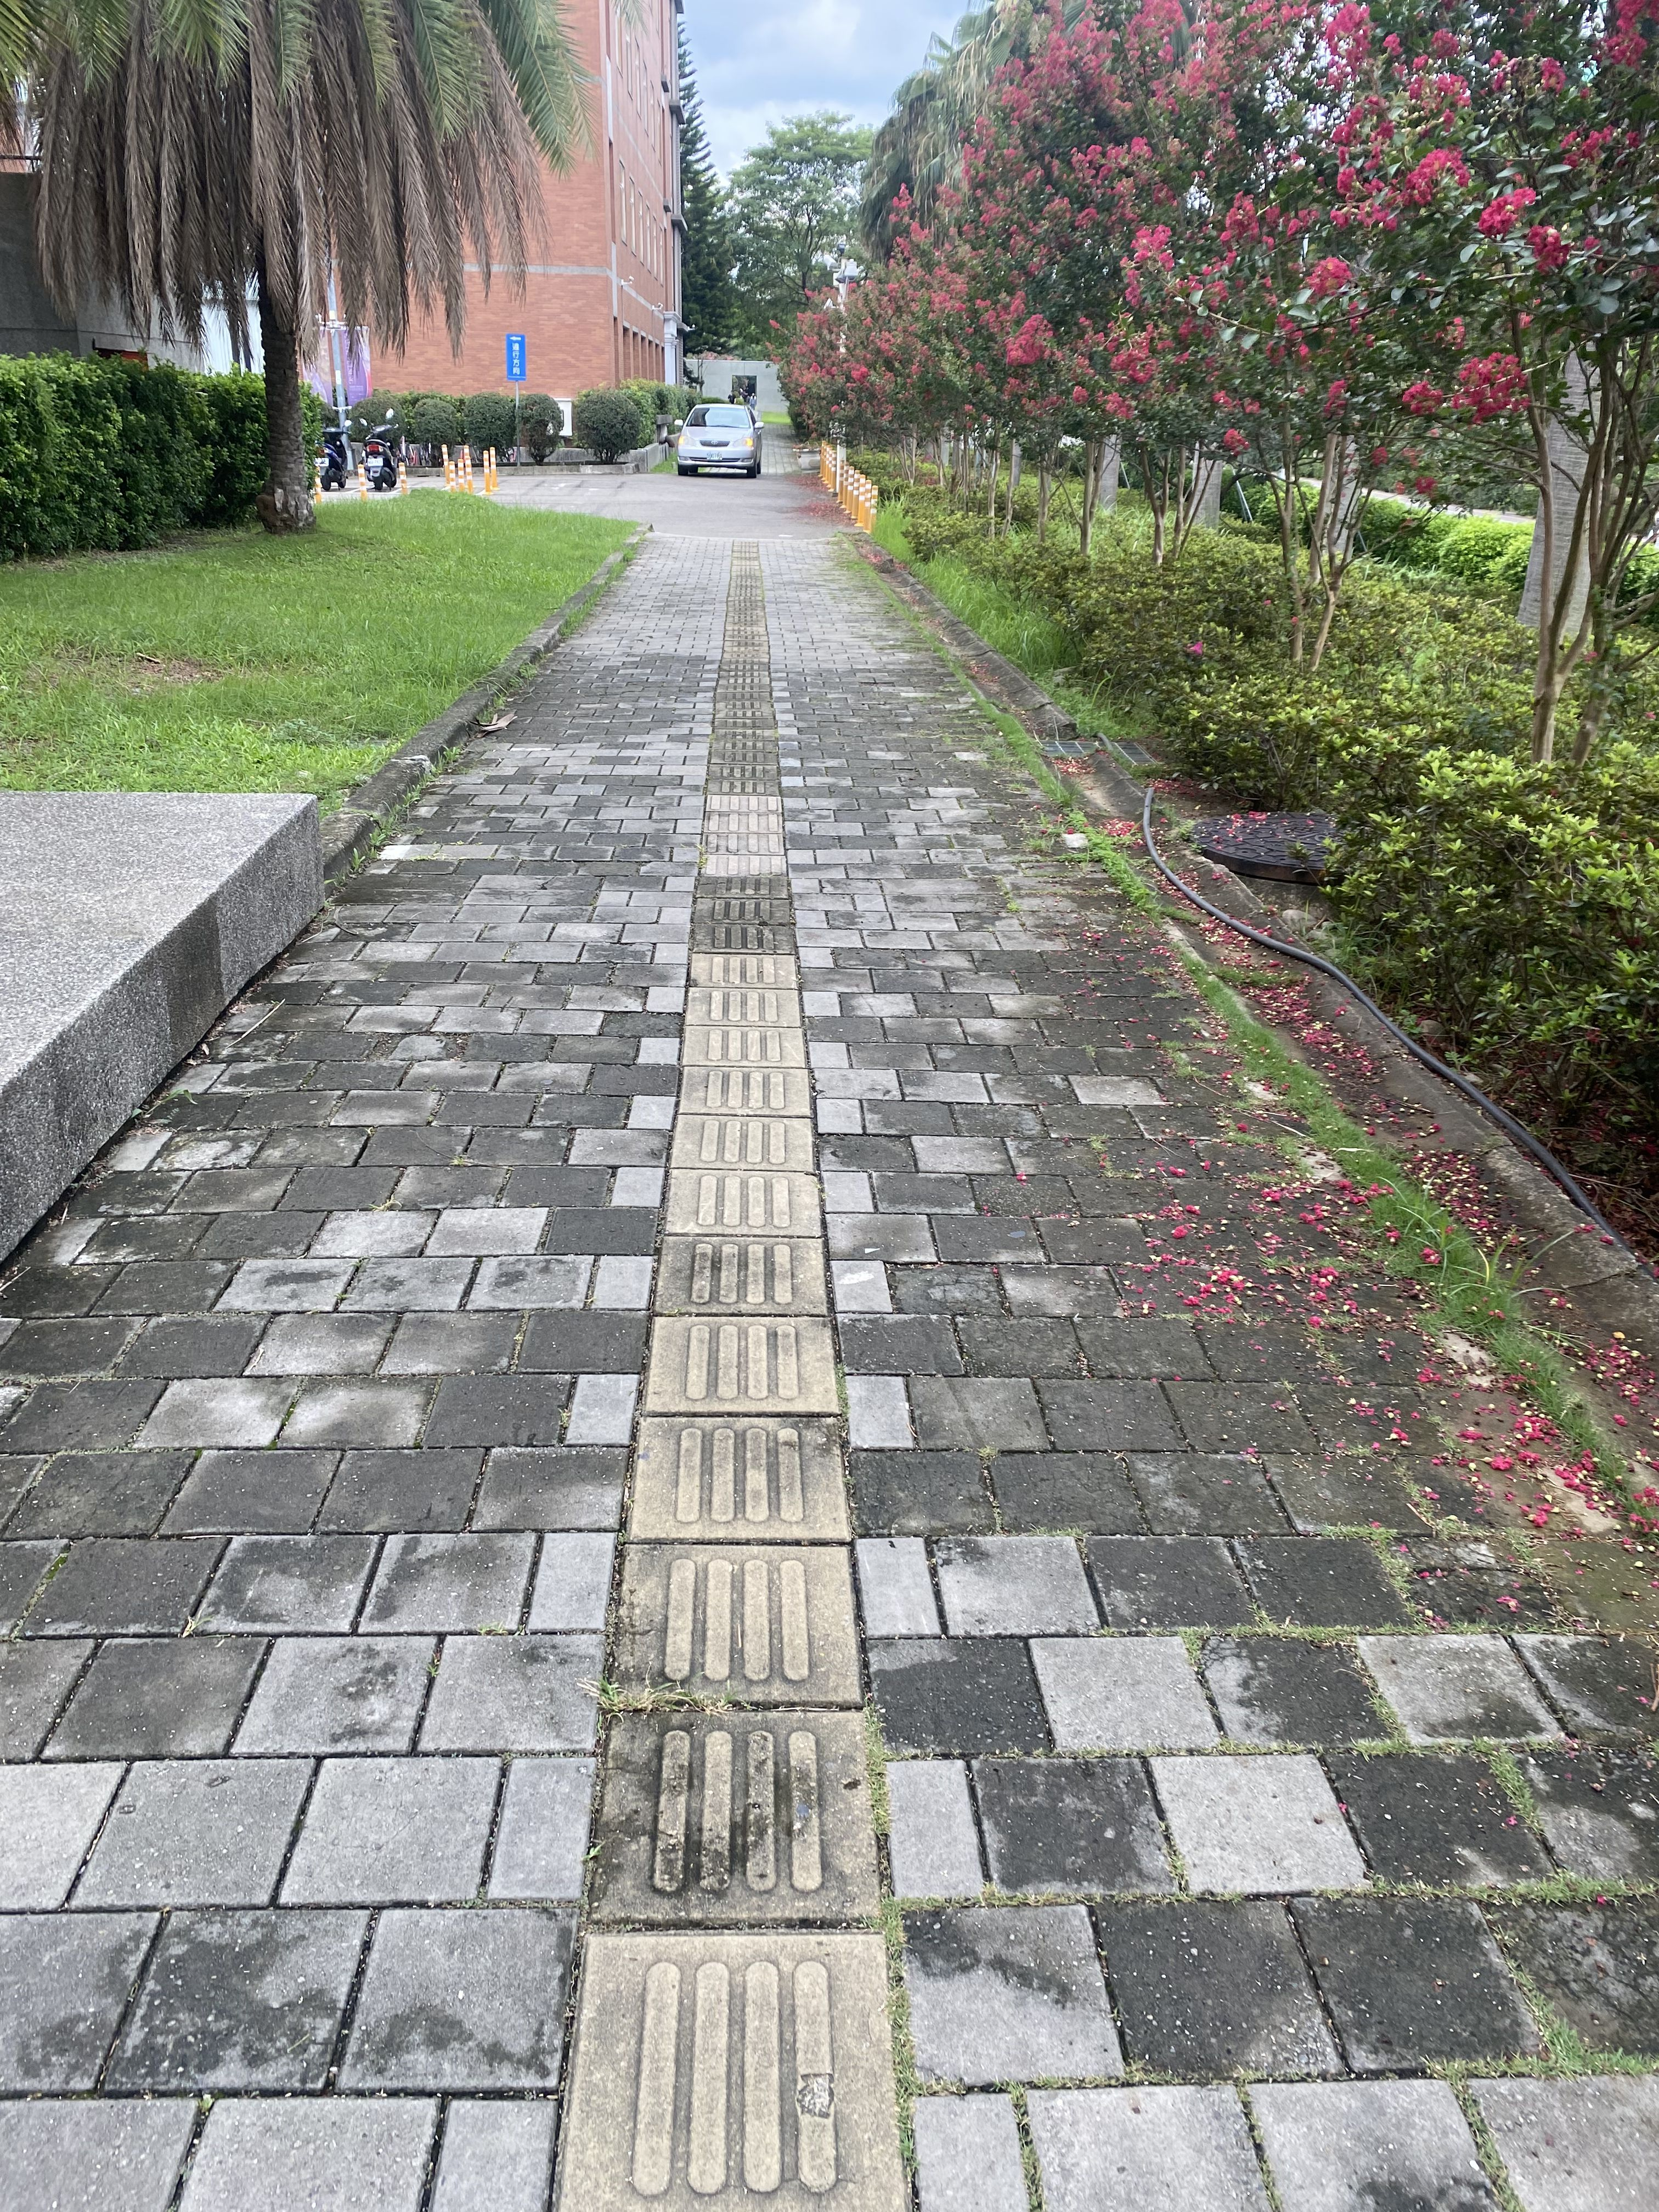0: (3, 707, 1659, 2212)
sidewalk: (495, 526, 1133, 1392)
